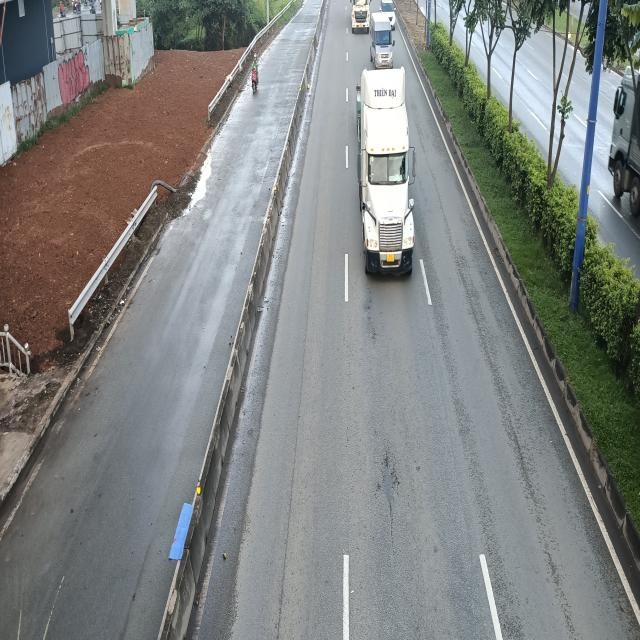container: (356, 68, 415, 274)
truck: (351, 0, 370, 32)
van: (371, 15, 396, 68)
